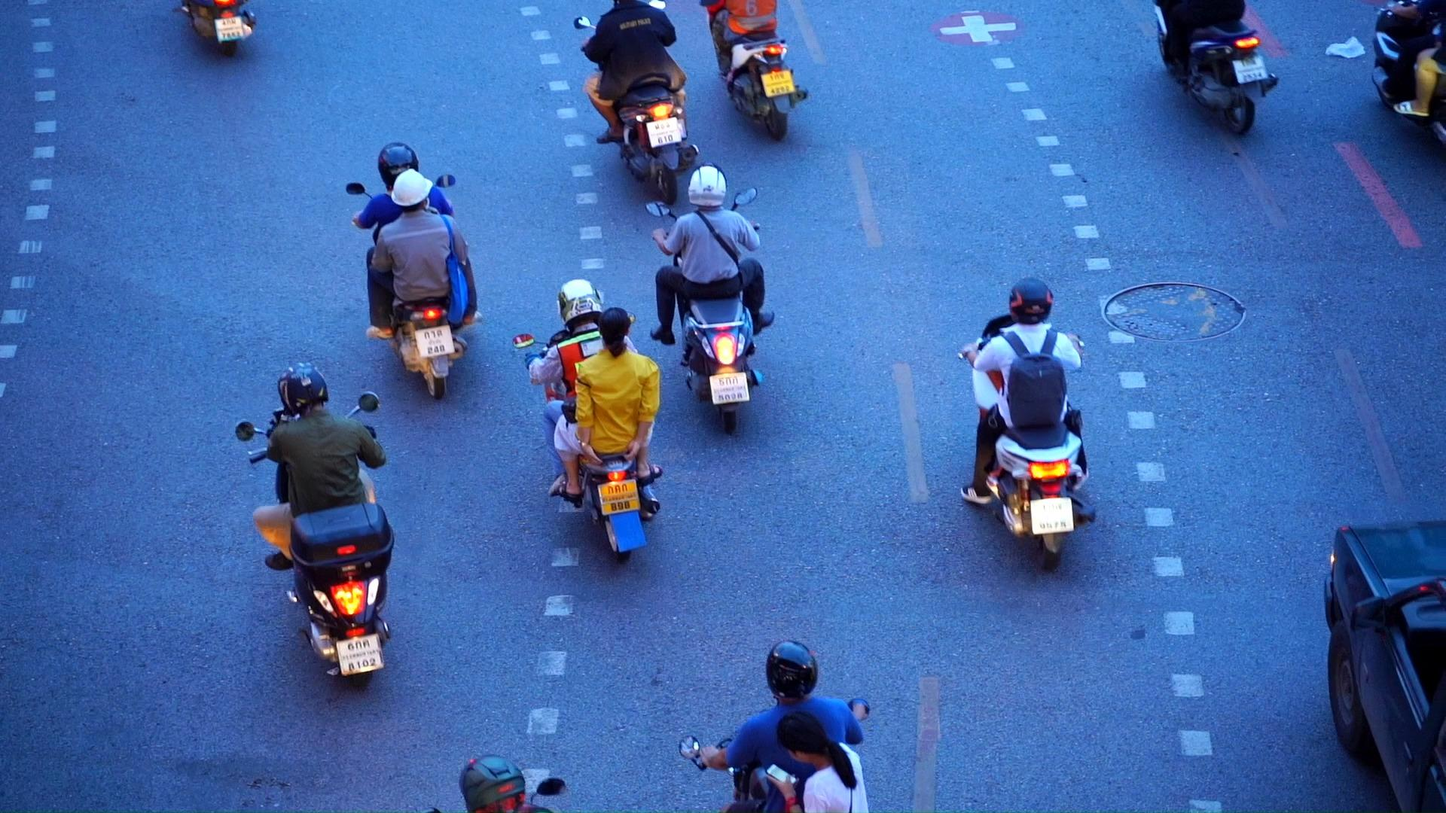driver: (233, 361, 394, 695), (511, 278, 664, 563), (957, 277, 1095, 572), (645, 160, 775, 434), (345, 142, 483, 399), (677, 640, 870, 813), (573, 0, 700, 205), (1150, 0, 1280, 134), (700, 1, 807, 141), (1370, 0, 1446, 152), (416, 754, 565, 813)
helmet: (459, 754, 526, 813), (766, 640, 818, 700), (277, 361, 329, 418), (557, 278, 602, 333), (1009, 277, 1053, 325), (378, 142, 419, 192), (391, 168, 434, 213), (688, 160, 727, 208)
no-helmet: (777, 710, 854, 764), (598, 307, 632, 359)
